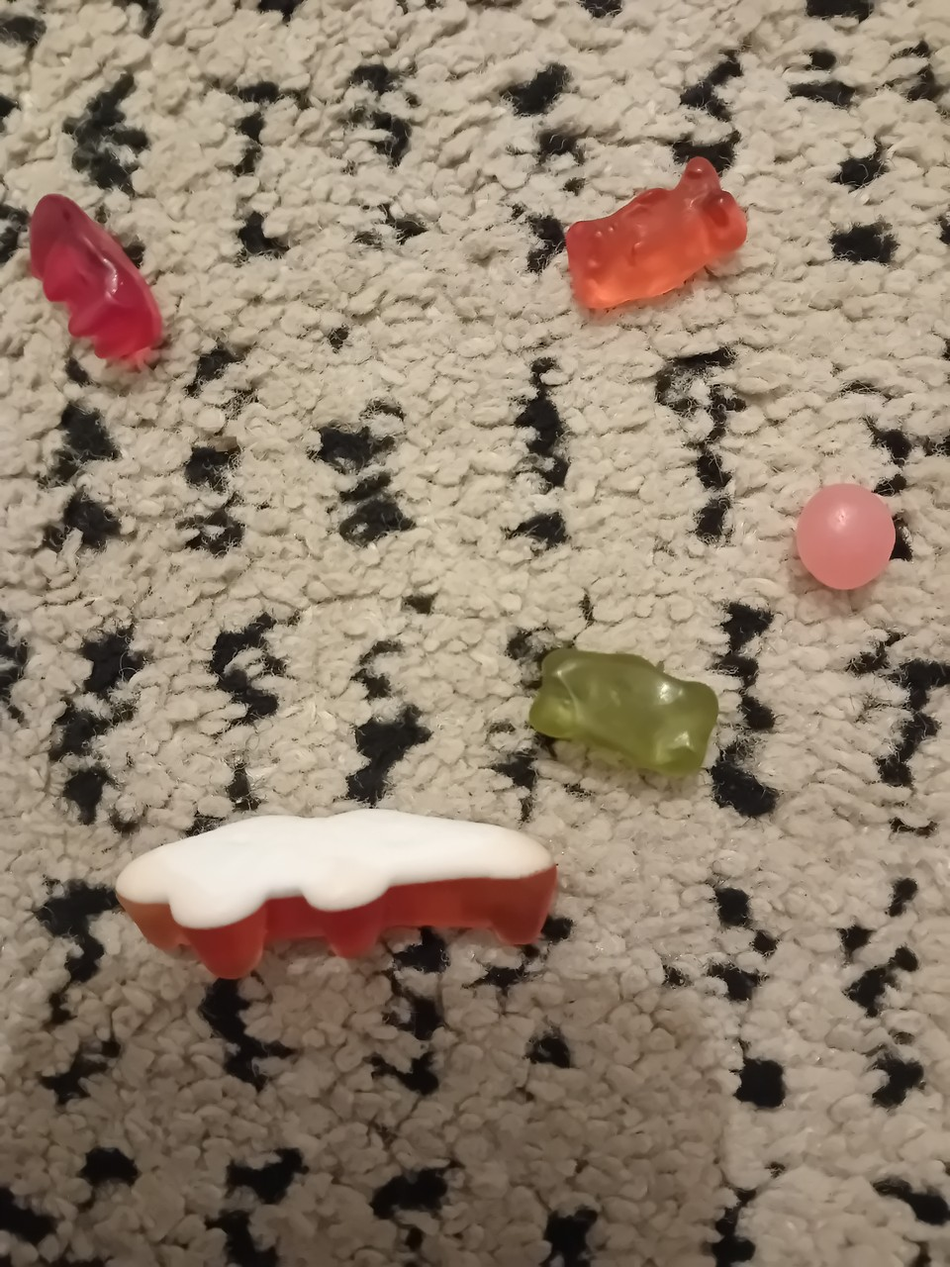crocodile_orange: (103, 804, 570, 984)
dragibus_rose: (788, 477, 900, 605)
ourson_orangeFonce: (558, 153, 752, 319)
ourson_rouge: (23, 189, 171, 369)
ourson_vert: (518, 639, 727, 779)
